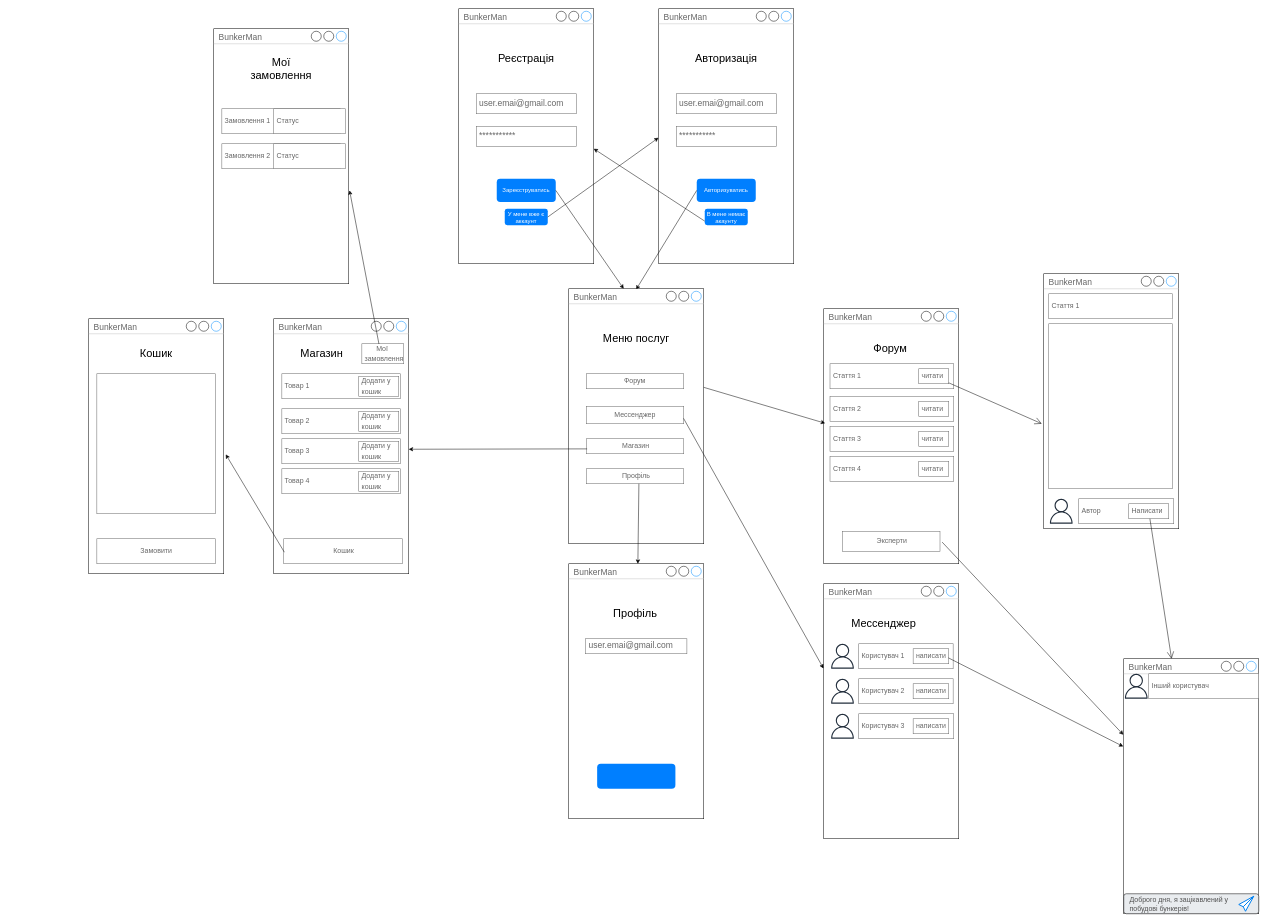
Some shapes in this 1268 by 923 pixel diagram are drawn without their labels. The shapes that lost their labels are listed below. From the top down, each one's centre as x and y in pixels, then its label:
(x=1110, y=406): Наповнення статті
(x=156, y=443): Товари у кошику
(x=636, y=776): Вийти з облікового запису
